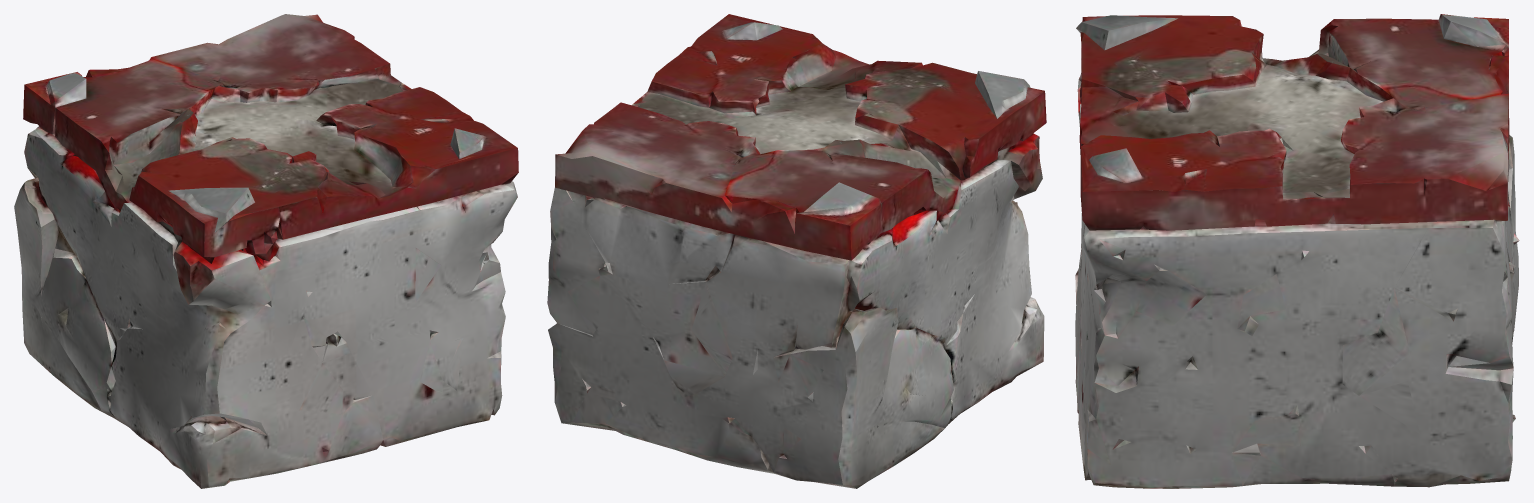
File: debris_concrete_b.glb
3 views of the same model, side by side, from view 1: azimuth 30°, elevation 25°; view 2: azimuth 150°, elevation 25°; view 3: azimuth 270°, elevation 25° (orthographic). The views are drawn at different scales.
Visible parts, largest first — view 1: debris_concrete_b; view 2: debris_concrete_b; view 3: debris_concrete_b.
Boxes of the visible parts, left/top/right/bottom form: debris_concrete_b: left=14, top=14, right=518, bottom=488; debris_concrete_b: left=547, top=14, right=1046, bottom=488; debris_concrete_b: left=1075, top=14, right=1519, bottom=488.
Bounding box in the file's own units: 1.96 × 1.61 × 2.
1 material, 1 textured.
